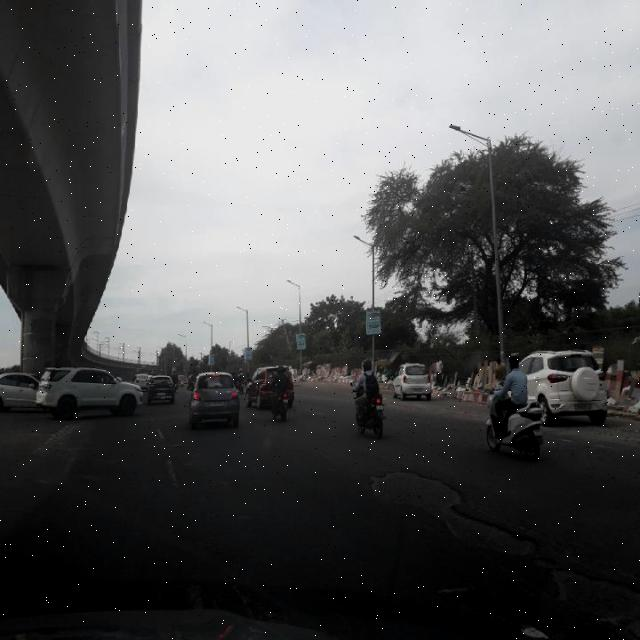D00: (468, 496, 640, 576)
D20: (188, 528, 303, 628)
D40: (366, 462, 542, 551), (541, 553, 640, 636)
